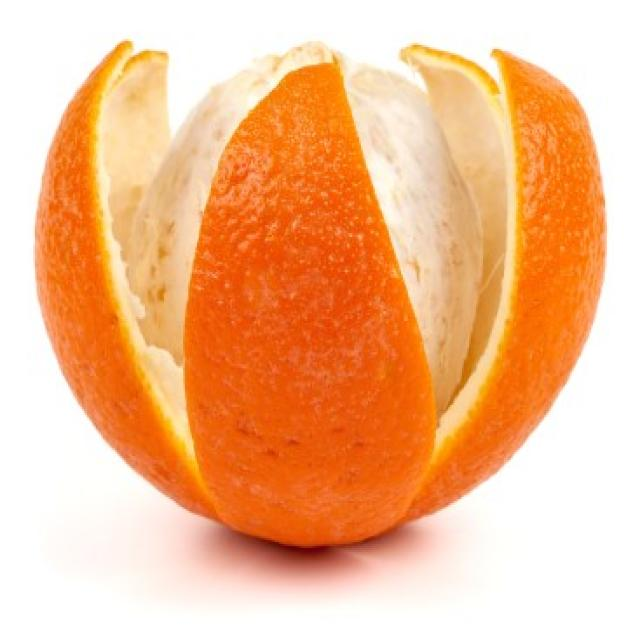Orange: (44, 23, 615, 568)
